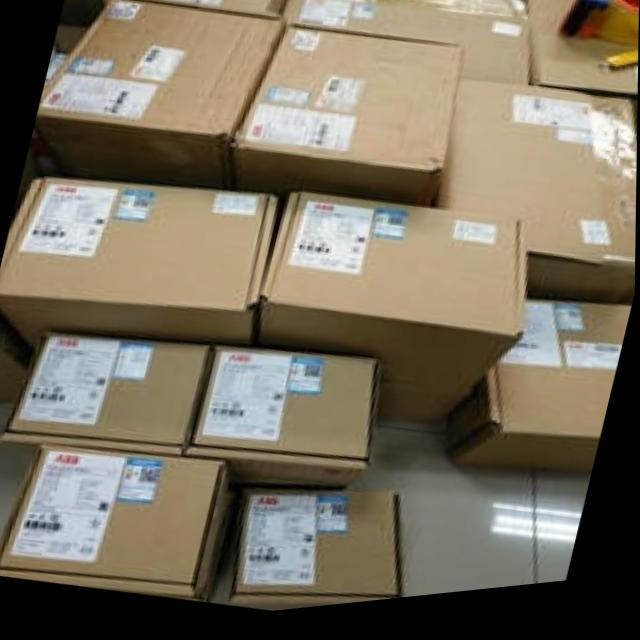box: (254, 197, 526, 436), (0, 177, 279, 355), (35, 0, 288, 194), (438, 86, 638, 314), (230, 27, 463, 218), (0, 447, 237, 607), (446, 310, 633, 484), (187, 351, 381, 496), (0, 332, 213, 459), (281, 0, 531, 95), (231, 495, 404, 614), (526, 0, 639, 141), (151, 0, 284, 21)
